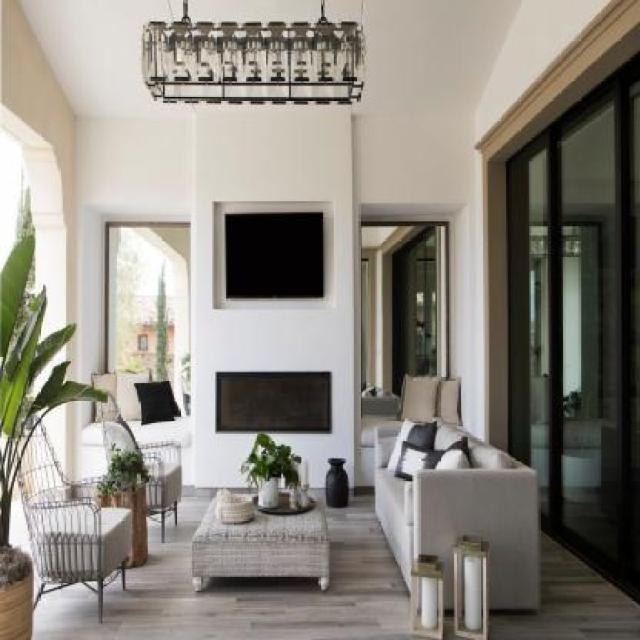floor: (27, 496, 409, 640)
